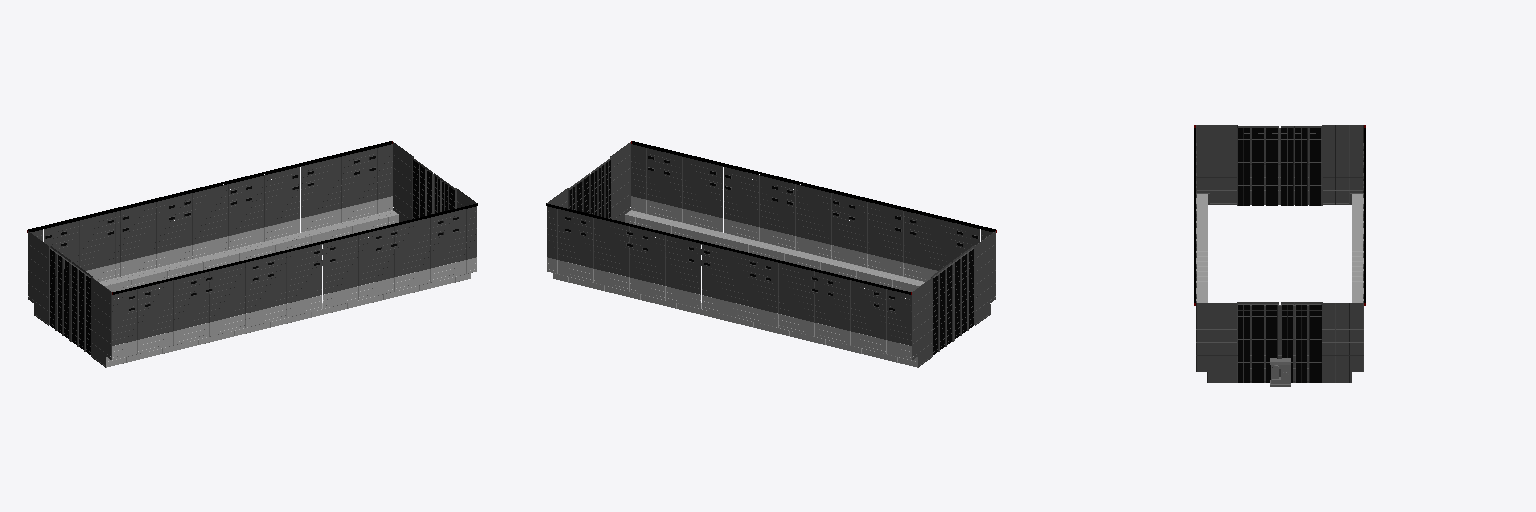
Rendered from body.obj.
3 views of the same model, side by side, from view 1: azimuth 30°, elevation 25°; view 2: azimuth 150°, elevation 25°; view 3: azimuth 270°, elevation 25° (orthographic).
Parts seen in each view (by area): view 1: Non_subD; view 2: Non_subD; view 3: Non_subD.
Part boxes in pixels (x1,y1,x2,y2): Non_subD: (27,141,477,367); Non_subD: (546,141,996,367); Non_subD: (1194,125,1365,386).
Size of the model in its own units: 148 by 30.59 by 58.92.